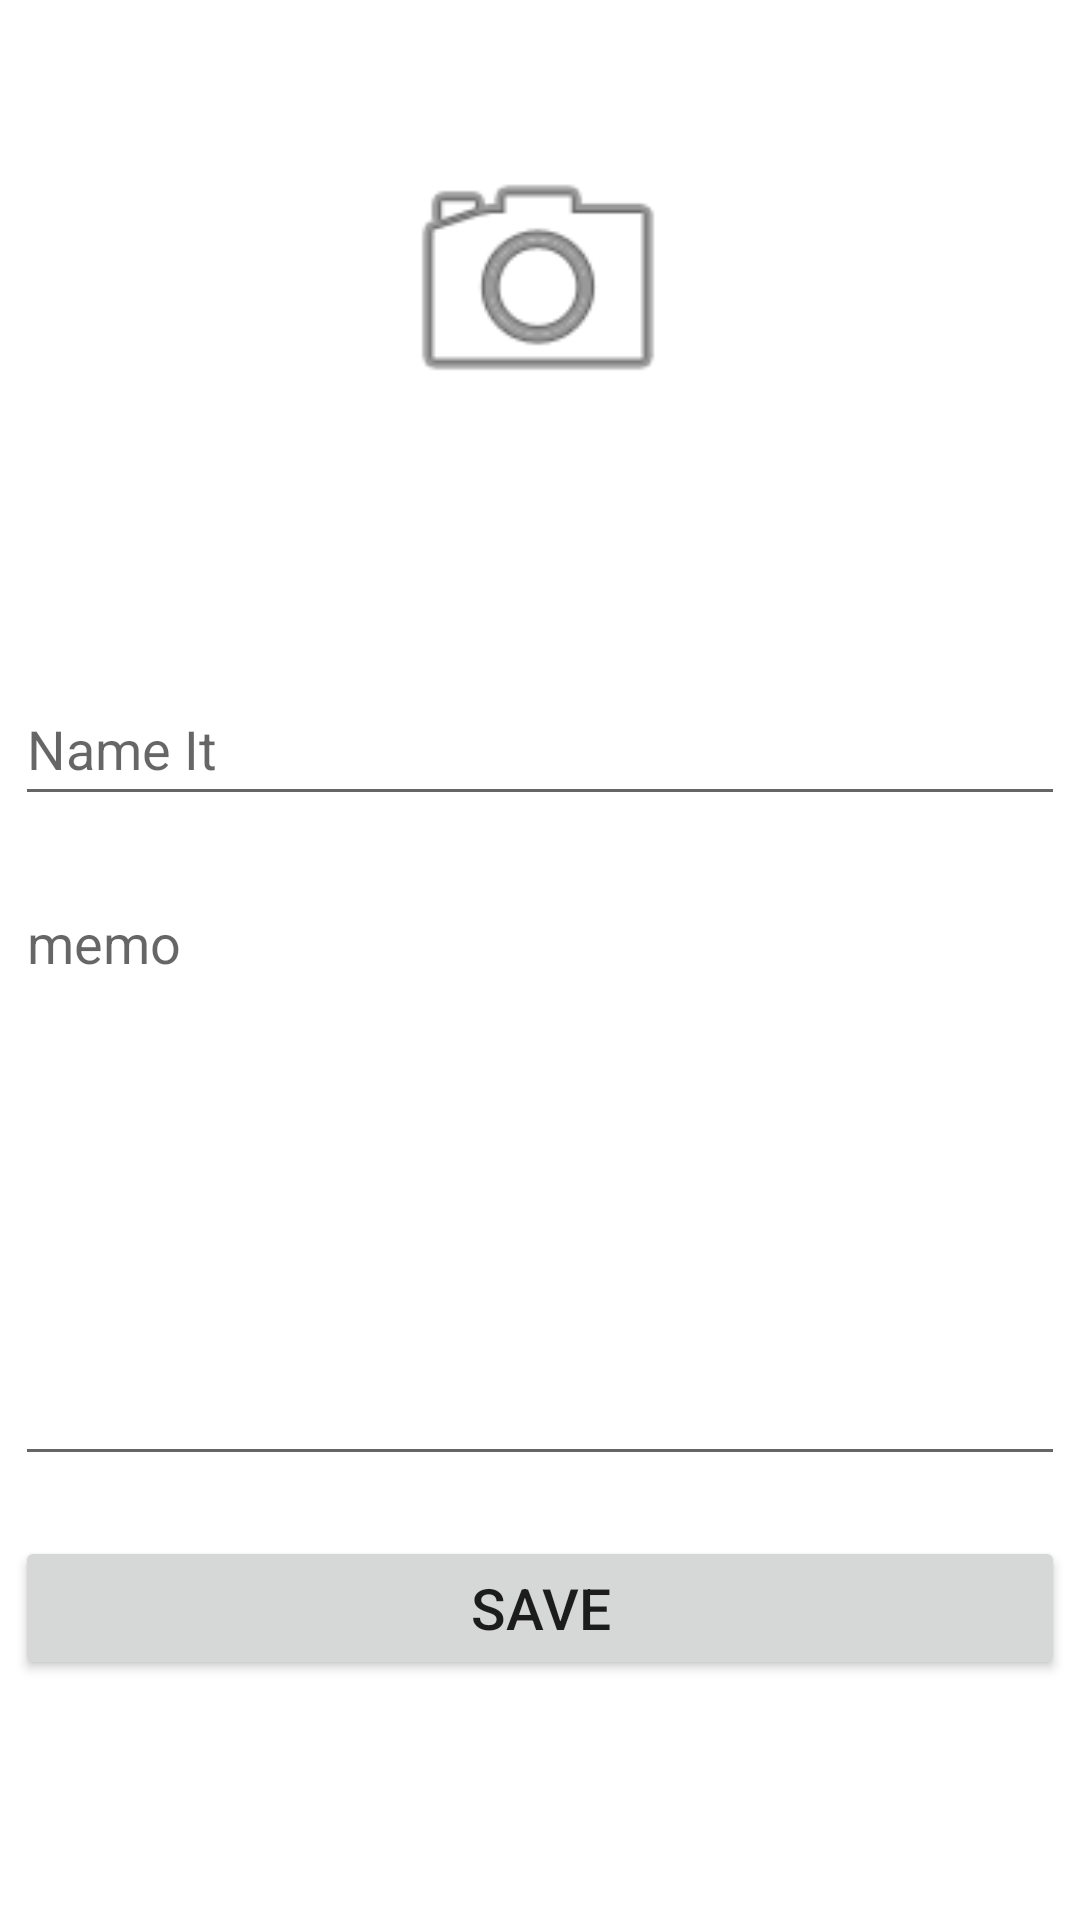

Locate icon controls on the screen. Image size 1080w x 1920h, boxes as rect(x1, y1, x2, y2).
camera: rect(422, 185, 654, 370)
